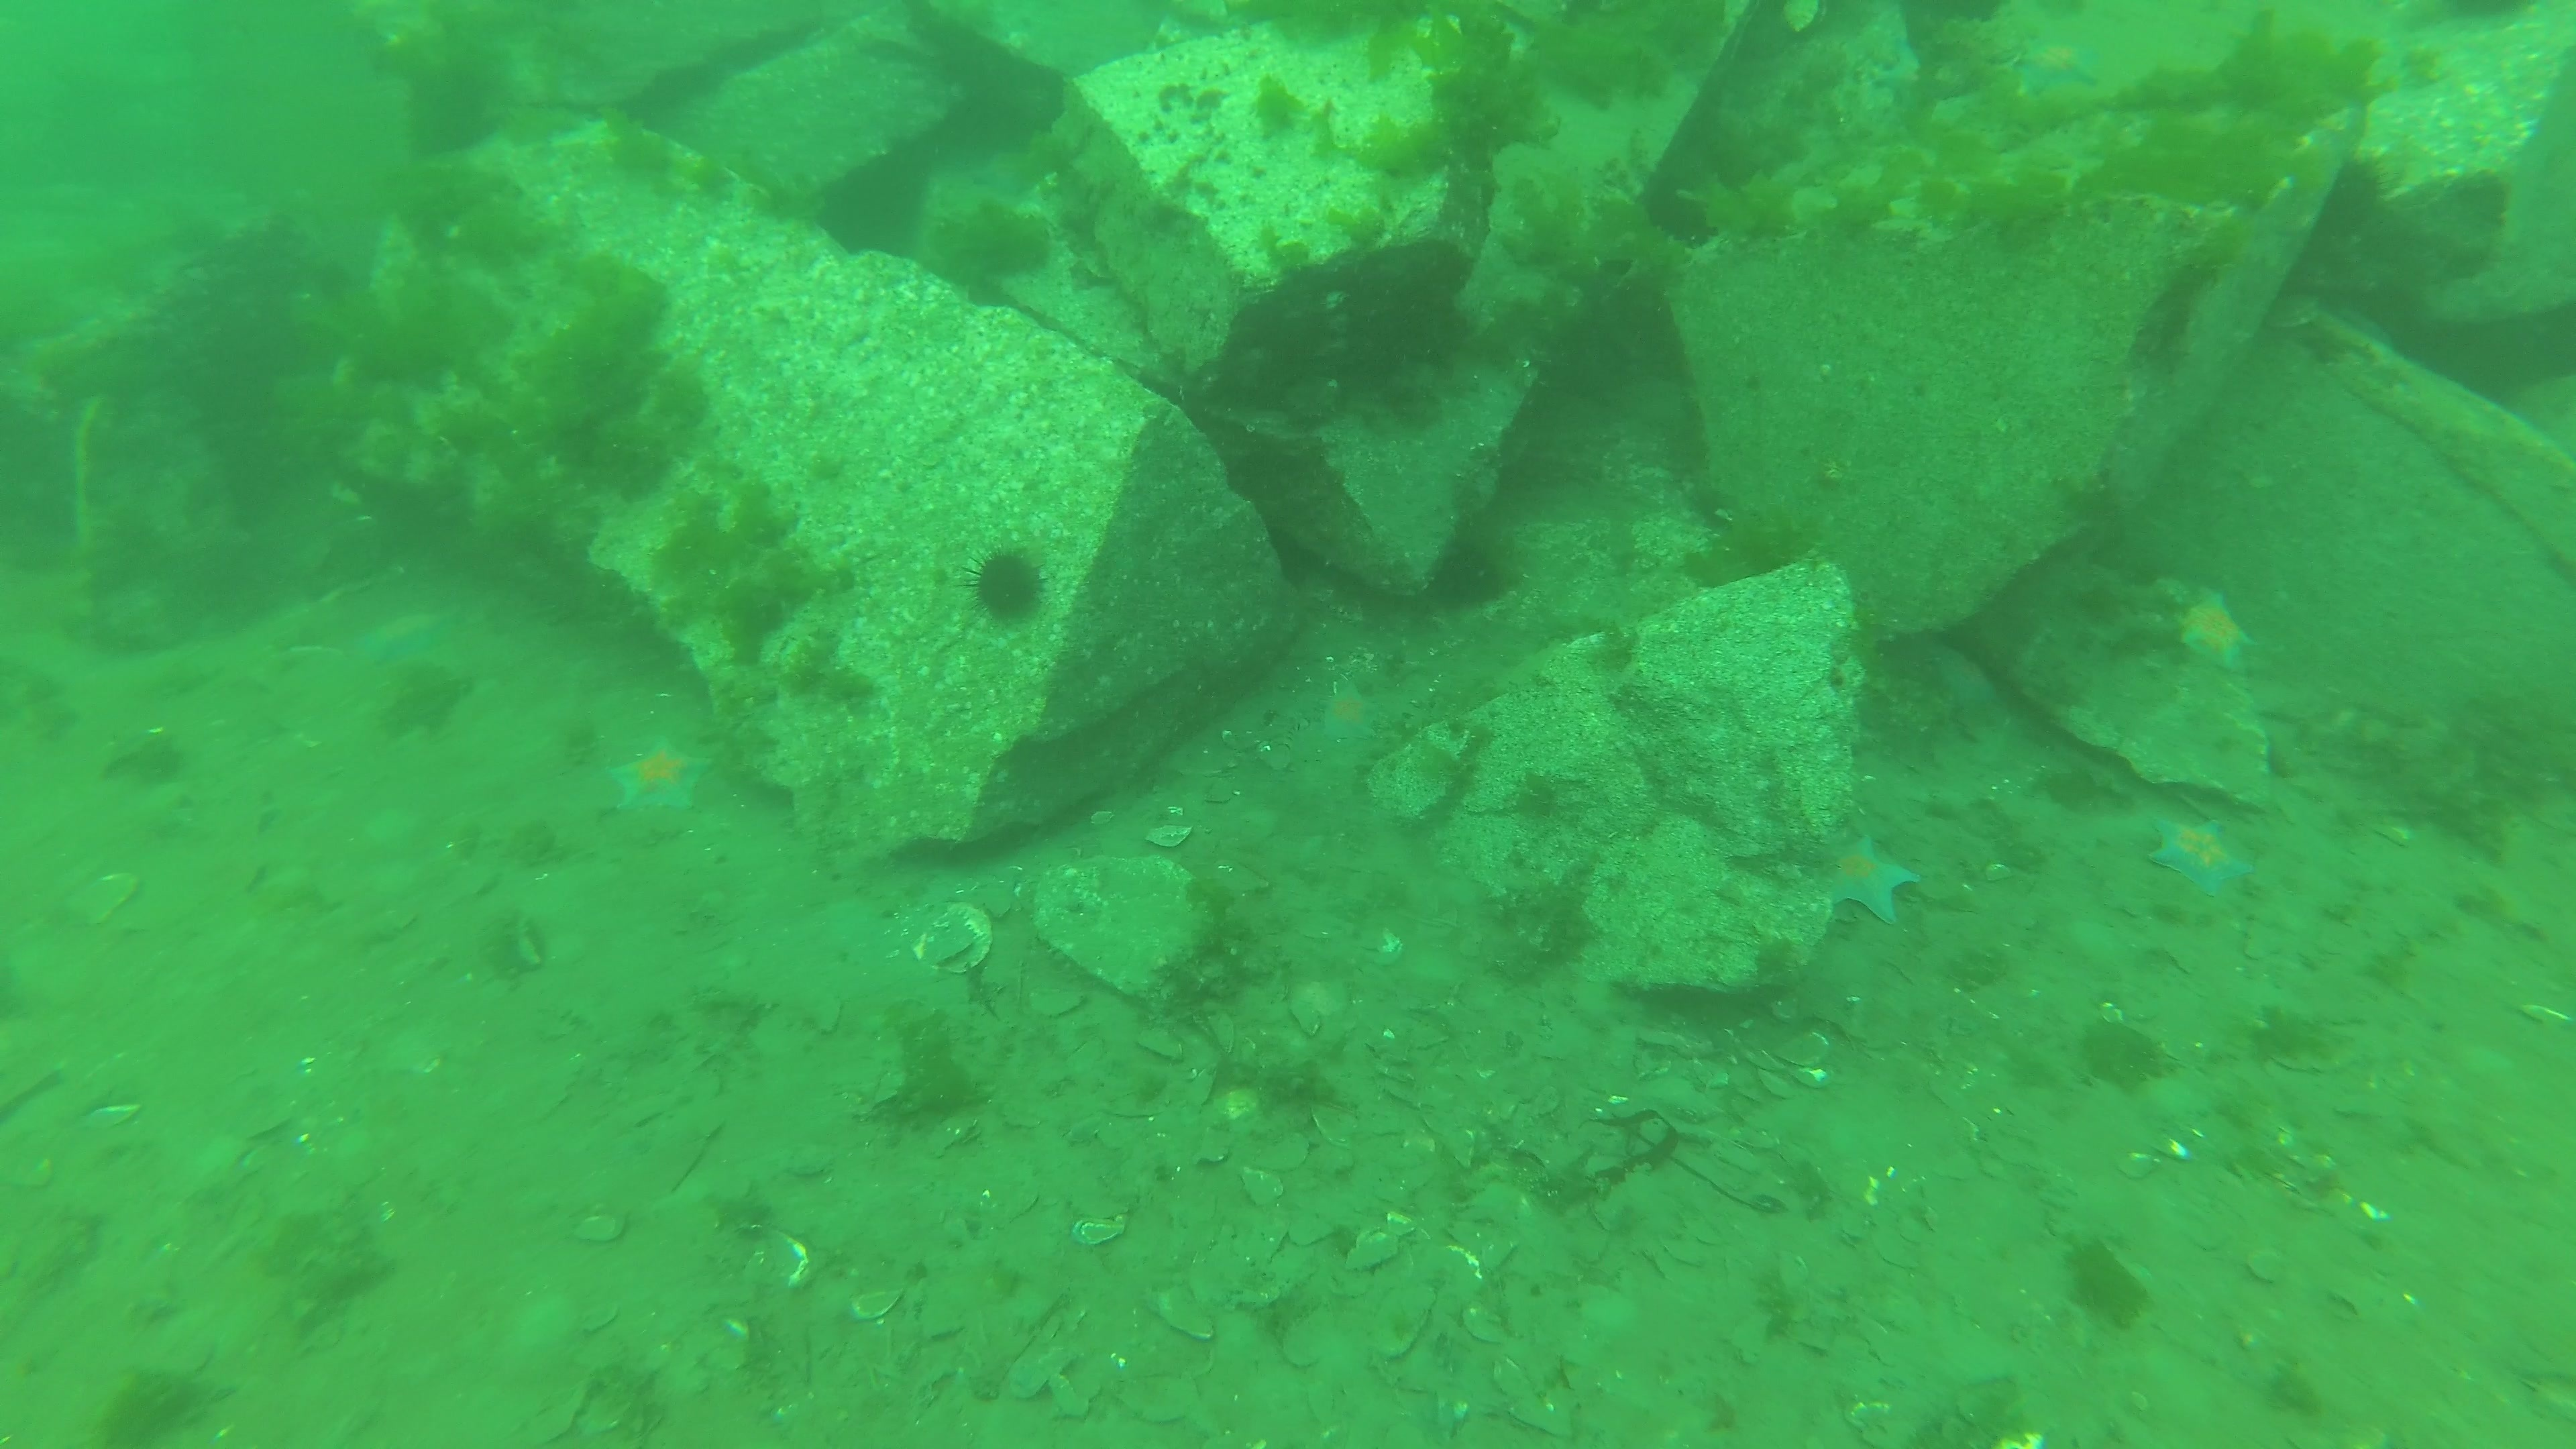echinus: (962, 543, 1046, 628)
scallop: (1776, 0, 1835, 39)
starfish: (2148, 805, 2259, 899), (602, 734, 715, 823), (1828, 830, 1923, 929), (1909, 632, 2006, 717), (2173, 582, 2261, 672), (350, 607, 464, 665), (2008, 35, 2111, 99), (1316, 683, 1385, 748)
